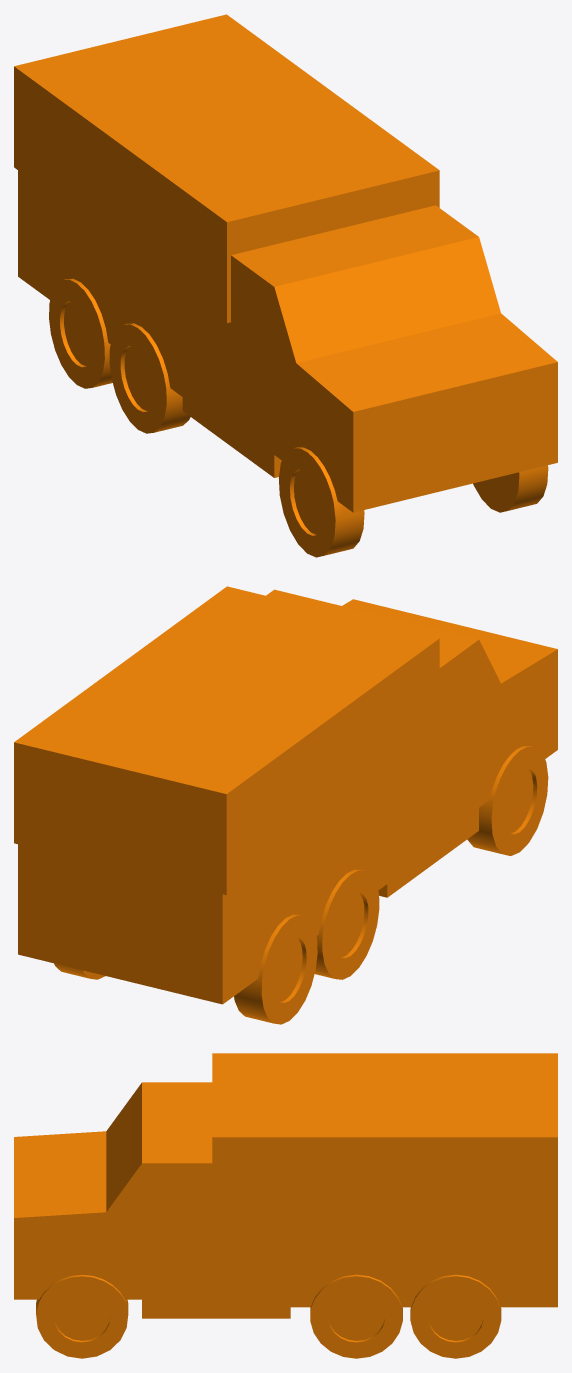
File: Boardgame_Piece_Military_Modern_Truck_Orange_01.fbx
3 renders of one model, top to bottom at view 1: azimuth 30°, elevation 25°; view 2: azimuth 150°, elevation 25°; view 3: azimuth 270°, elevation 25°, orthographic. The views are drawn at different scales.
Parts seen in each view (by area): view 1: Boardgame_Piece_Military_Modern_Truck_Orange_01; view 2: Boardgame_Piece_Military_Modern_Truck_Orange_01; view 3: Boardgame_Piece_Military_Modern_Truck_Orange_01.
Part boxes in pixels (left/top/right/bottom): Boardgame_Piece_Military_Modern_Truck_Orange_01: left=14, top=14, right=557, bottom=557; Boardgame_Piece_Military_Modern_Truck_Orange_01: left=14, top=586, right=557, bottom=1024; Boardgame_Piece_Military_Modern_Truck_Orange_01: left=14, top=1053, right=557, bottom=1358.
Bounding box in the file's own units: 25.31 × 31 × 69.09.
